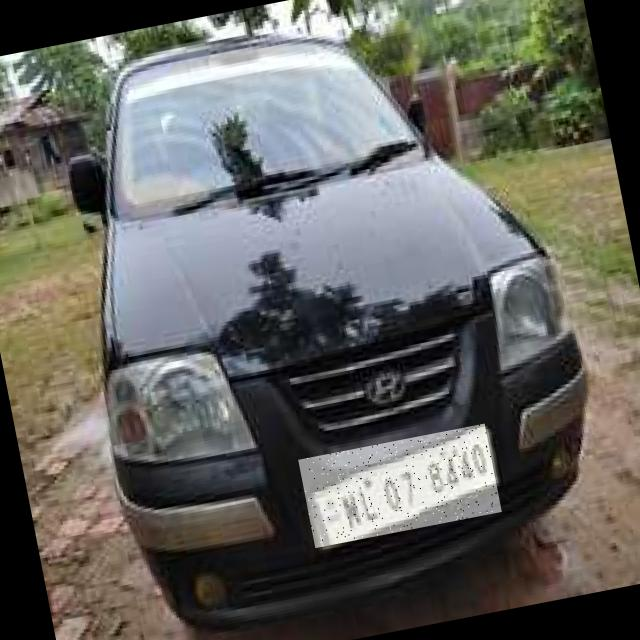Plate: (299, 425, 503, 550)
